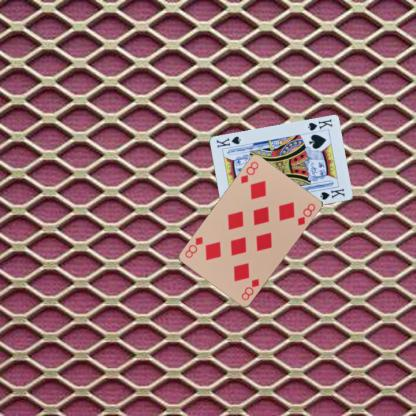8d: (238, 276, 260, 302), (238, 159, 259, 185)
Ks: (305, 117, 333, 132)
